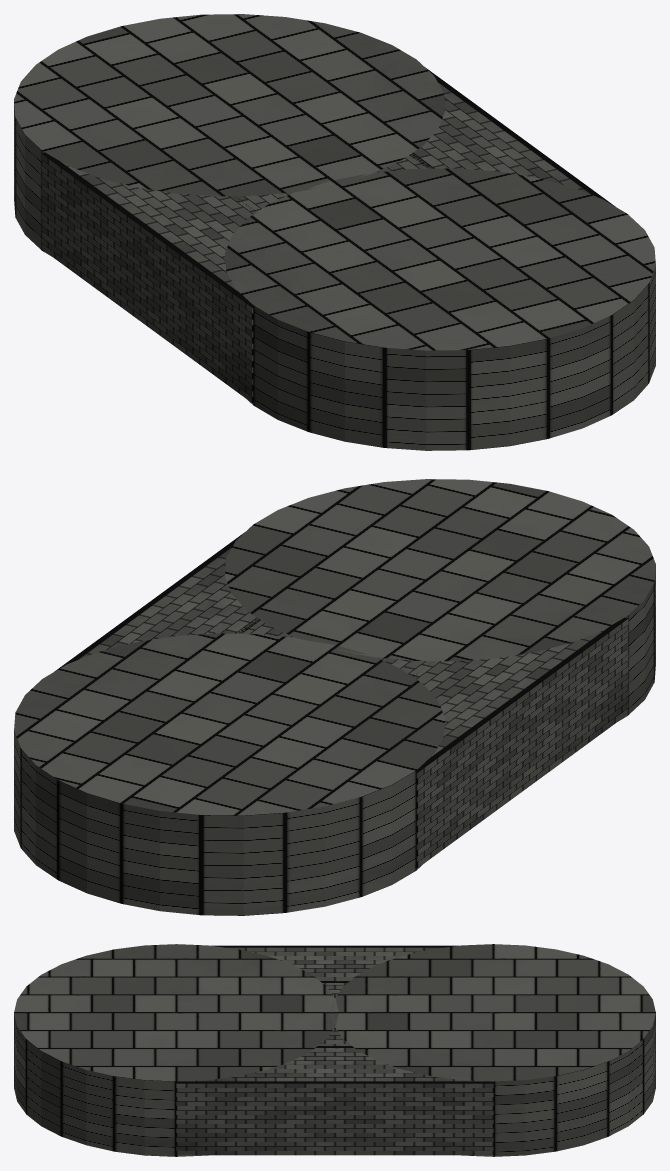
Rendered from slope.glb.
The picture shows the model from 3 angles, top to bottom: view 1: azimuth 30°, elevation 25°; view 2: azimuth 150°, elevation 25°; view 3: azimuth 270°, elevation 25°; orthographic projection. The views are drawn at different scales.
Parts seen in each view (by area): view 1: 柱体.003, 柱体.001, 平面.007, 平面.005, 平面.003, 平面.002; view 2: 柱体.001, 柱体.003, 平面.007, 平面.005, 平面.003, 平面.002; view 3: 柱体.003, 柱体.001, 平面.002, 平面.003, 平面.005, 平面.007.
Boxes of the visible parts, box(x1,y1,x2,y2) form: 柱体.003: box(224, 168, 655, 450); 柱体.001: box(14, 14, 444, 255); 平面.007: box(41, 152, 253, 403); 平面.005: box(58, 160, 294, 294); 平面.003: box(375, 82, 591, 194); 平面.002: box(425, 67, 615, 206); 柱体.001: box(14, 633, 445, 915); 柱体.003: box(225, 479, 655, 720); 平面.007: box(416, 617, 628, 868); 平面.005: box(376, 625, 611, 759); 平面.003: box(78, 547, 294, 659); 平面.002: box(54, 532, 244, 671); 柱体.003: box(14, 944, 338, 1156); 柱体.001: box(331, 944, 655, 1156); 平面.002: box(176, 1081, 493, 1155); 平面.003: box(178, 1028, 491, 1081); 平面.005: box(227, 947, 442, 997); 平面.007: box(211, 945, 458, 947).
Bounding box in the file's own units: 412 × 106 × 810.
Materials: 3 (1 with a texture image).
